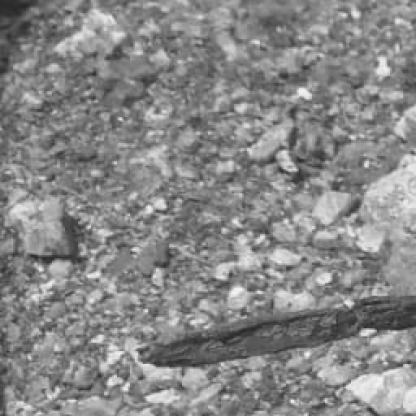cementitious_debris: (3, 0, 413, 414)
